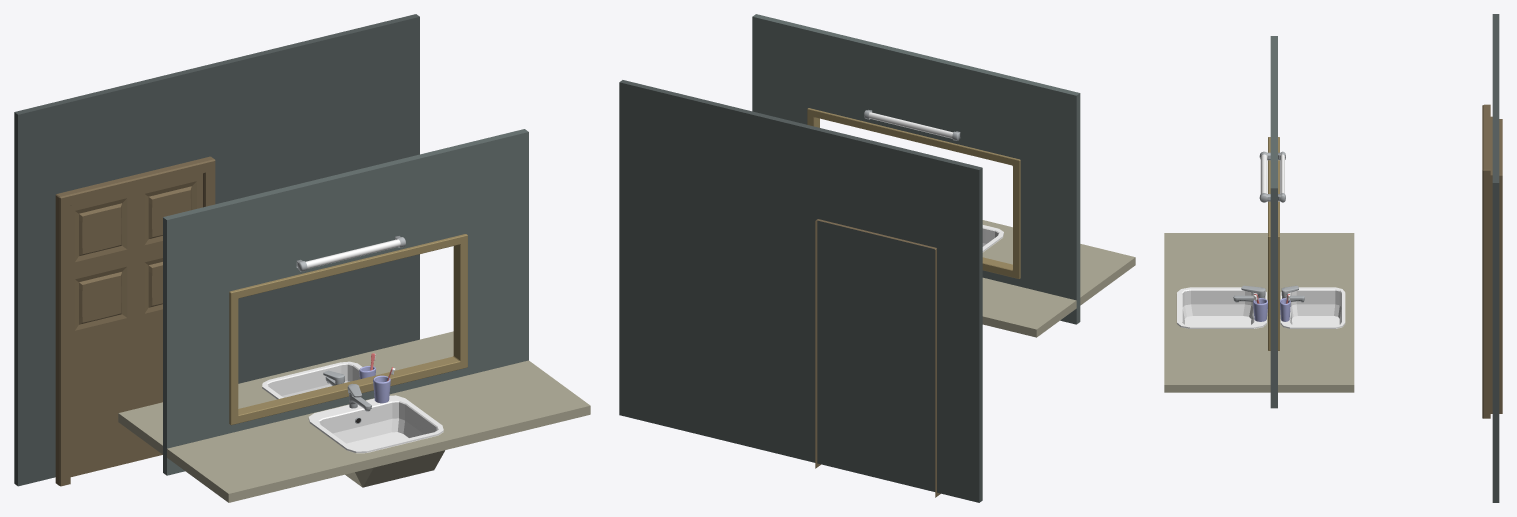
File: BackgroudnAssets02.fbx
3 views of the same model, side by side, from view 1: azimuth 30°, elevation 25°; view 2: azimuth 150°, elevation 25°; view 3: azimuth 270°, elevation 25° (orthographic). The views are drawn at different scales.
Visible parts, largest first — view 1: polySurface8 (×2), polySurface10, polySurface12, polySurface9 (×2), polySurface11, pCylinder7; view 2: polySurface10, polySurface8 (×2), polySurface9, polySurface11, pCylinder7; view 3: polySurface8 (×2), polySurface11, polySurface10, polySurface9 (×2), polySurface12, pCylinder7.
Part boxes in pixels (x1,y1,x2,y2): polySurface8 (×2): (118,129,590,502); polySurface10: (14,14,419,486); polySurface12: (70,173,202,476); polySurface9 (×2): (229,234,467,425); polySurface11: (55,156,215,486); pCylinder7: (296,236,405,271); polySurface10: (619,80,982,502); polySurface8 (×2): (752,14,1135,337); polySurface9: (807,108,1020,279); polySurface11: (815,219,940,497); pCylinder7: (864,109,960,140); polySurface8 (×2): (1164,36,1354,408); polySurface11: (1482,104,1502,418); polySurface10: (1492,14,1499,502); polySurface9 (×2): (1268,137,1279,350); polySurface12: (1490,116,1492,411); pCylinder7: (1259,151,1270,202).
Bounding box in the file's own units: 48.11 × 43.03 × 40.72.
